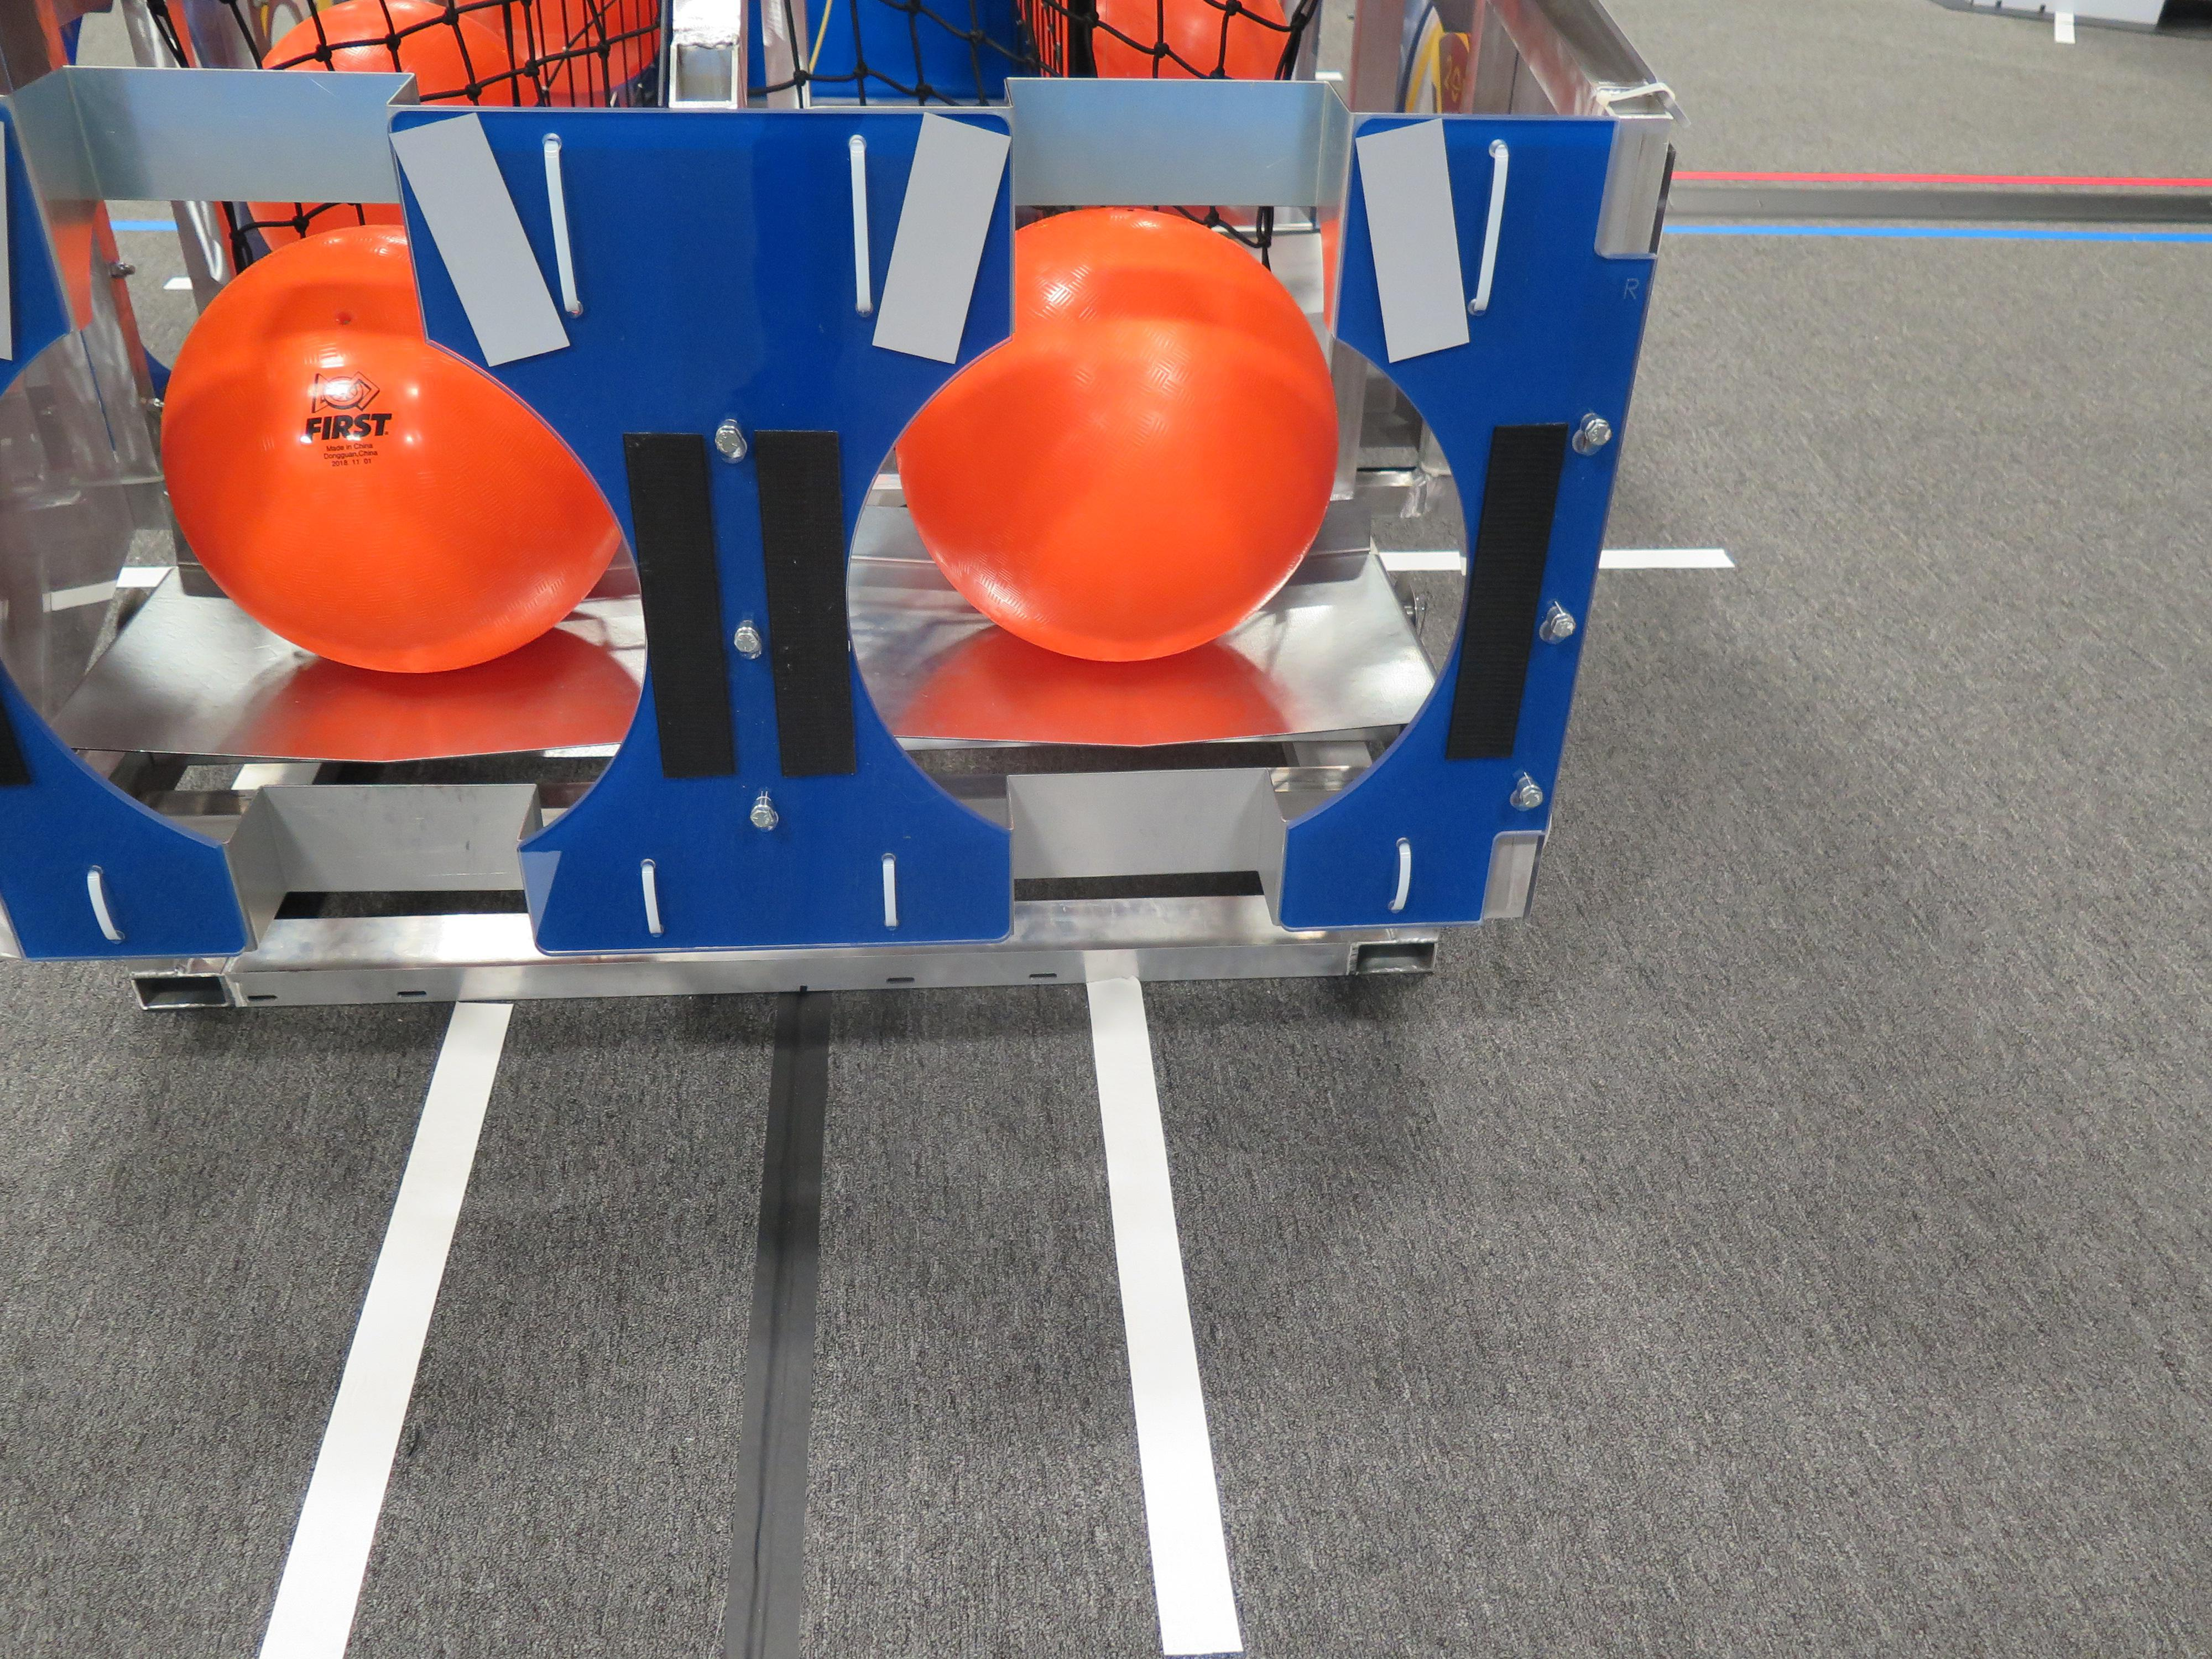Ball: (158, 225, 624, 673), (895, 204, 1339, 664)
Tape: (392, 112, 571, 368), (874, 110, 1012, 362), (1355, 115, 1472, 366)
